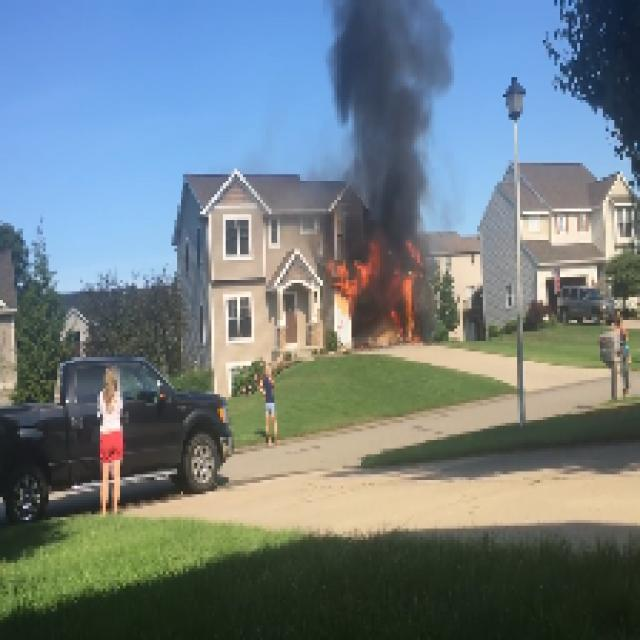Smoke: (340, 3, 430, 208)
